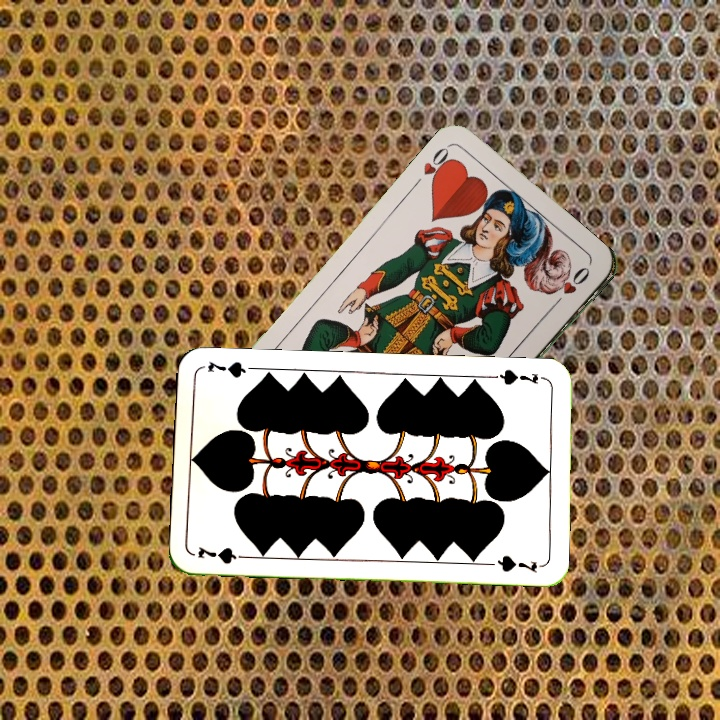G7: (194, 543, 253, 567), (489, 365, 549, 388)
HO: (419, 141, 458, 189)
